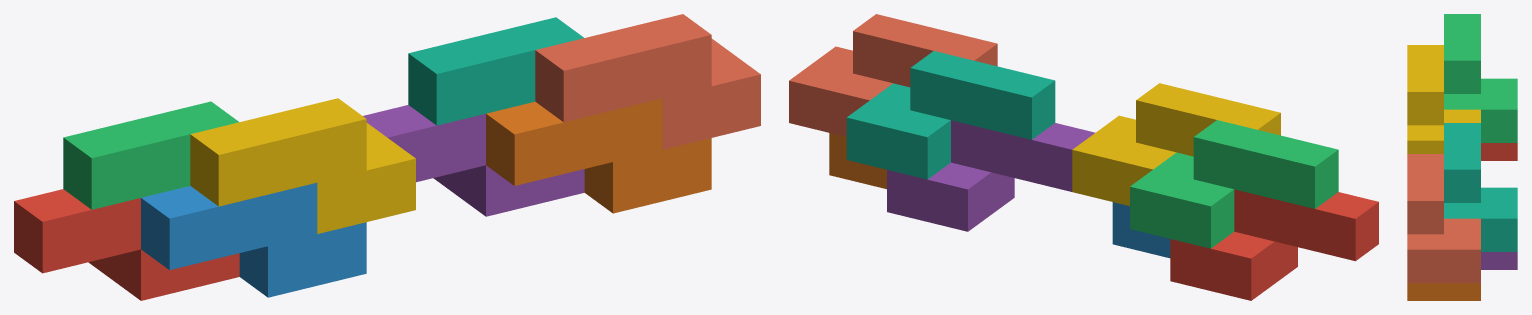
The model's file is tiling.obj.
3 views of the same model, side by side, from view 1: azimuth 30°, elevation 25°; view 2: azimuth 150°, elevation 25°; view 3: azimuth 270°, elevation 25° (orthographic). The views are drawn at different scales.
Parts seen in each view (by area): view 1: copy_1_domain_4, copy_1_domain_8, copy_1_domain_2, copy_1_domain_6, copy_1_domain_1, copy_1_domain_3, copy_1_domain_7, copy_1_domain_5; view 2: copy_1_domain_7, copy_1_domain_3, copy_1_domain_1, copy_1_domain_5, copy_1_domain_4, copy_1_domain_8, copy_1_domain_2, copy_1_domain_6; view 3: copy_1_domain_8, copy_1_domain_3, copy_1_domain_7, copy_1_domain_4, copy_1_domain_6, copy_1_domain_1, copy_1_domain_5.
Boxes of the visible parts, left/top/right/bottom form: copy_1_domain_4: left=190, top=98, right=415, bottom=233; copy_1_domain_8: left=535, top=14, right=760, bottom=149; copy_1_domain_2: left=141, top=182, right=366, bottom=297; copy_1_domain_6: left=486, top=98, right=711, bottom=213; copy_1_domain_1: left=14, top=189, right=239, bottom=300; copy_1_domain_3: left=63, top=101, right=239, bottom=209; copy_1_domain_7: left=408, top=17, right=583, bottom=125; copy_1_domain_5: left=363, top=105, right=584, bottom=216; copy_1_domain_7: left=846, top=51, right=1055, bottom=179; copy_1_domain_3: left=1130, top=120, right=1338, bottom=248; copy_1_domain_1: left=1170, top=189, right=1378, bottom=300; copy_1_domain_5: left=887, top=120, right=1095, bottom=231; copy_1_domain_4: left=1072, top=83, right=1280, bottom=205; copy_1_domain_8: left=789, top=14, right=997, bottom=136; copy_1_domain_2: left=1112, top=202, right=1170, bottom=258; copy_1_domain_6: left=829, top=133, right=886, bottom=189; copy_1_domain_8: left=1407, top=154, right=1480, bottom=283; copy_1_domain_3: left=1444, top=14, right=1517, bottom=142; copy_1_domain_7: left=1444, top=123, right=1517, bottom=251; copy_1_domain_4: left=1407, top=45, right=1480, bottom=153; copy_1_domain_6: left=1407, top=283, right=1480, bottom=300; copy_1_domain_1: left=1481, top=143, right=1517, bottom=160; copy_1_domain_5: left=1481, top=252, right=1517, bottom=269.
Bounding box in the file's own units: 14 × 3 × 3.
